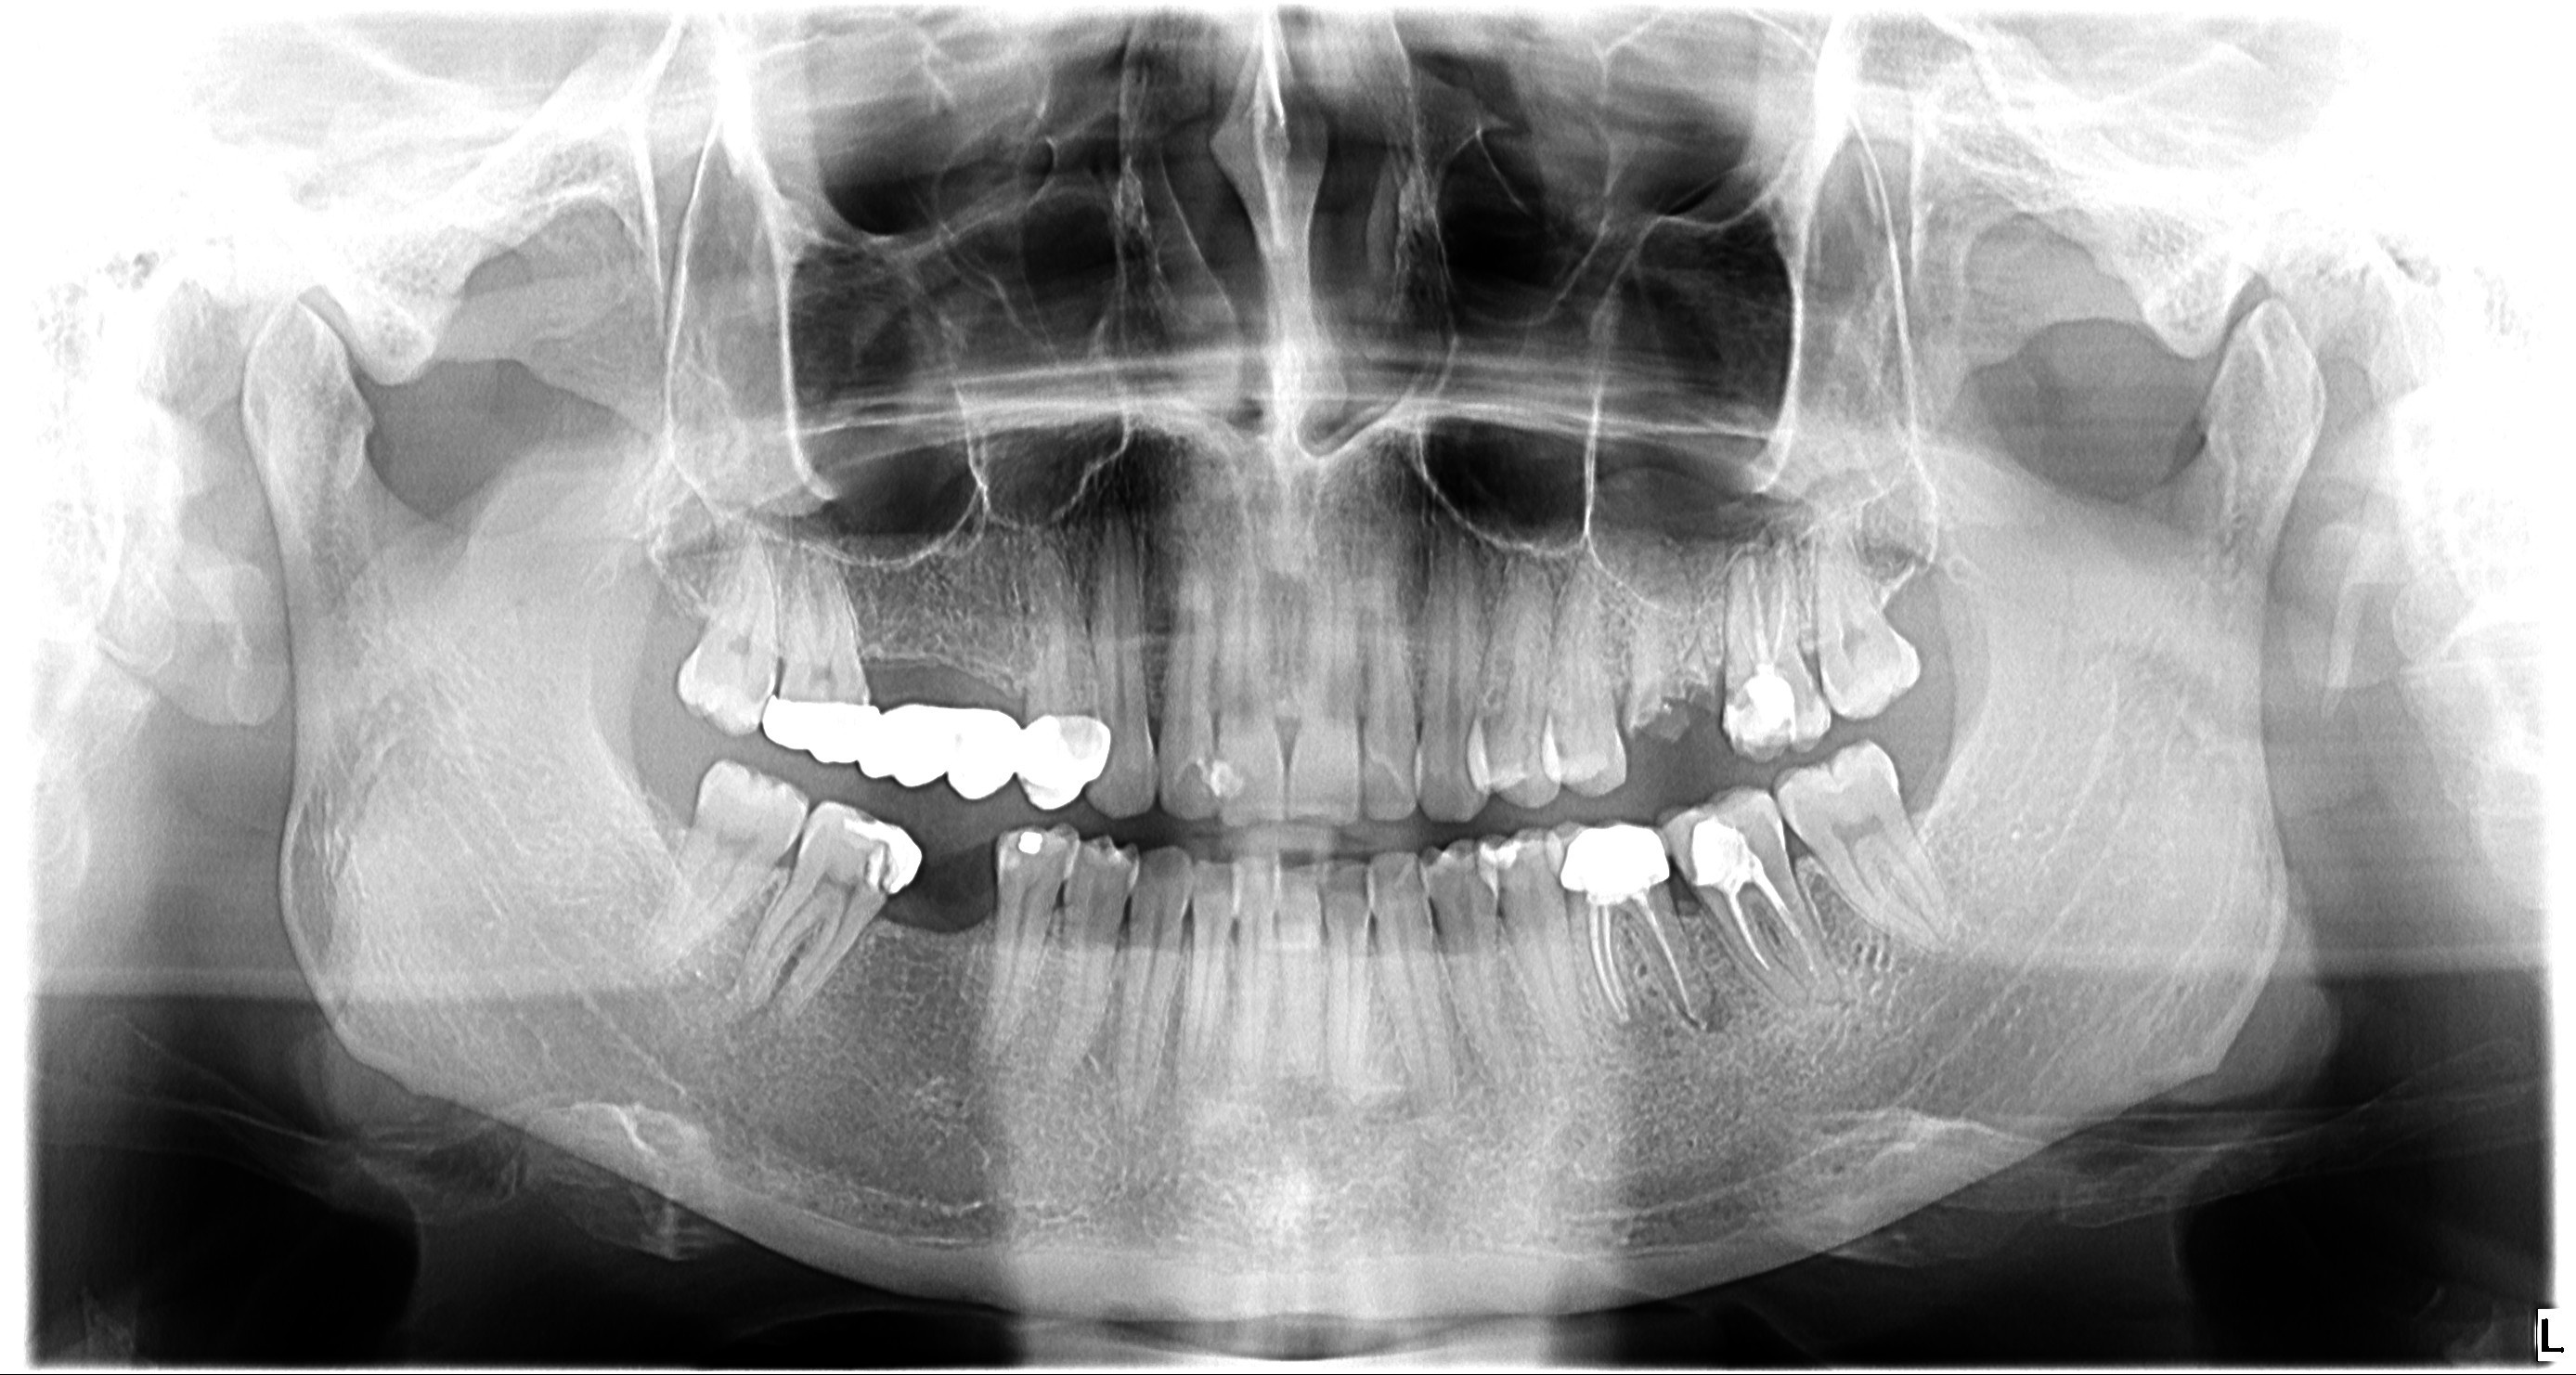END: (1567, 895, 1709, 1034), (1724, 874, 1825, 978), (1739, 552, 1797, 664)
IMT: (1665, 876, 1709, 917), (860, 656, 896, 692), (876, 900, 920, 927)
OBT: (760, 697, 1113, 809), (1545, 818, 1673, 895)
PRR: (1712, 664, 1791, 753), (1682, 799, 1762, 881), (860, 813, 923, 898), (1201, 751, 1251, 806), (998, 828, 1048, 877)
ROT: (1629, 593, 1714, 750)
